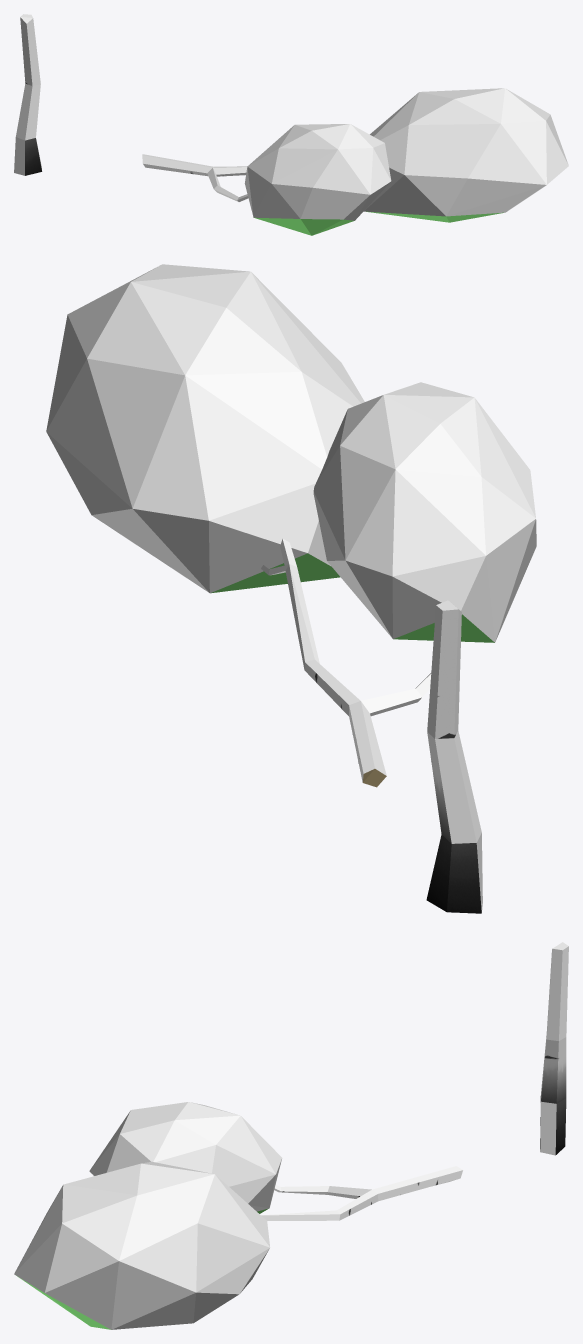
The model's file is Birch_Tree_crk_l_Snow_03.fbx.
3 views of the same model, one above another, from view 1: azimuth 30°, elevation 25°; view 2: azimuth 150°, elevation 25°; view 3: azimuth 270°, elevation 25° (orthographic). The views are drawn at different scales.
Parts seen in each view (by area): view 1: Birch_Tree_crk_l_Snow_03; view 2: Birch_Tree_crk_l_Snow_03; view 3: Birch_Tree_crk_l_Snow_03.
Part boxes in pixels (left/top/right/bottom): Birch_Tree_crk_l_Snow_03: left=14, top=14, right=568, bottom=235; Birch_Tree_crk_l_Snow_03: left=46, top=264, right=536, bottom=913; Birch_Tree_crk_l_Snow_03: left=14, top=942, right=568, bottom=1329.
Size of the model in its own units: 1139 by 445 by 1111.
